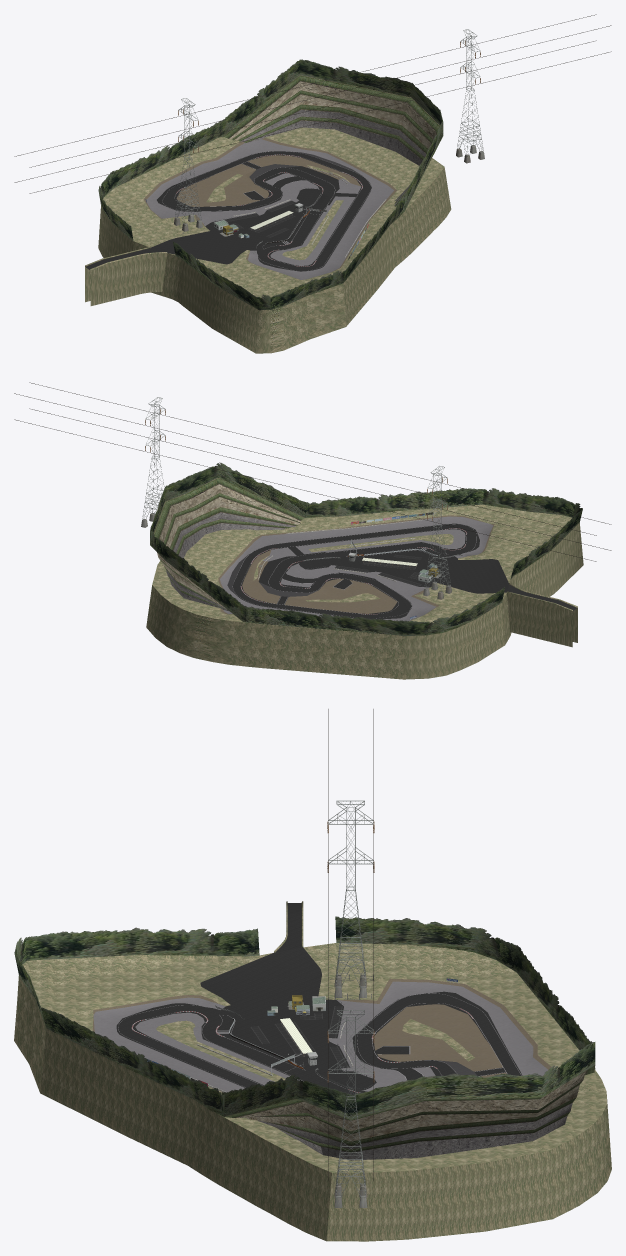
Rendered from nikkocircuit.glb.
3 renders of one model, top to bottom at view 1: azimuth 30°, elevation 25°; view 2: azimuth 150°, elevation 25°; view 3: azimuth 270°, elevation 25°, orthographic. The views are drawn at different scales.
Parts seen in each view (by area): view 1: nikkocircuit; view 2: nikkocircuit; view 3: nikkocircuit.
Part boxes in pixels (<box>): nikkocircuit: <box>14,14,611,353</box>; nikkocircuit: <box>14,382,611,679</box>; nikkocircuit: <box>14,709,611,1241</box>.
Size of the model in its own units: 687 by 185 by 401.
Materials: 51 (51 with a texture image).
